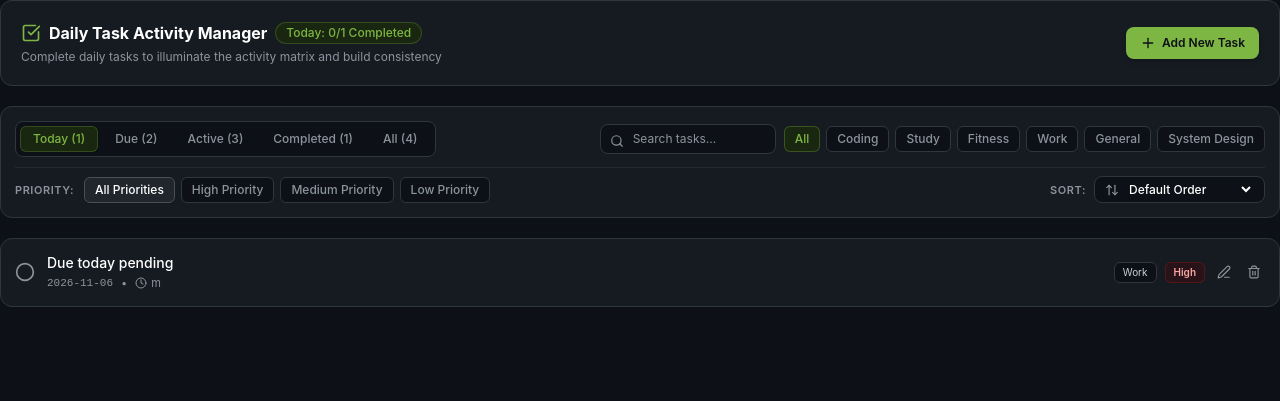
Scenario: TaskManager Component › filters tasks using the Due filter button
Click the button "Due (2)" at (136, 139), box [102, 126, 170, 152]
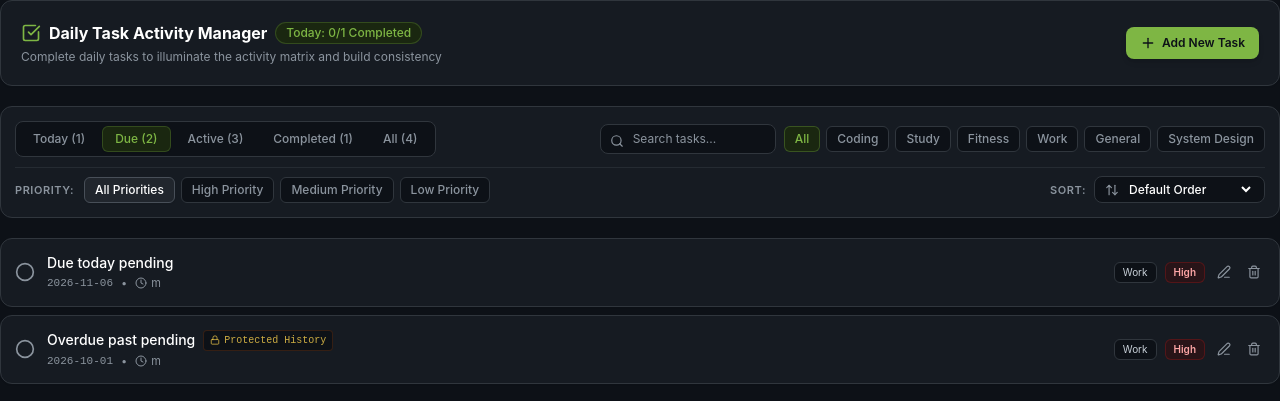
Expected: the text "Due today pending" is shown, [47, 253, 173, 273]
Now the text "Overdue past pending" is shown, box [47, 330, 195, 350]
